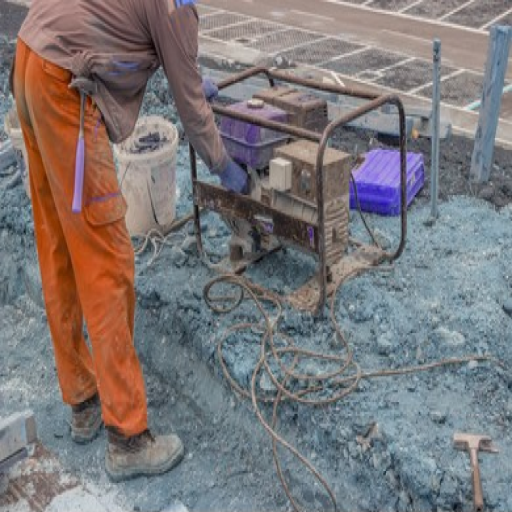portable_generator: (189, 68, 408, 314)
